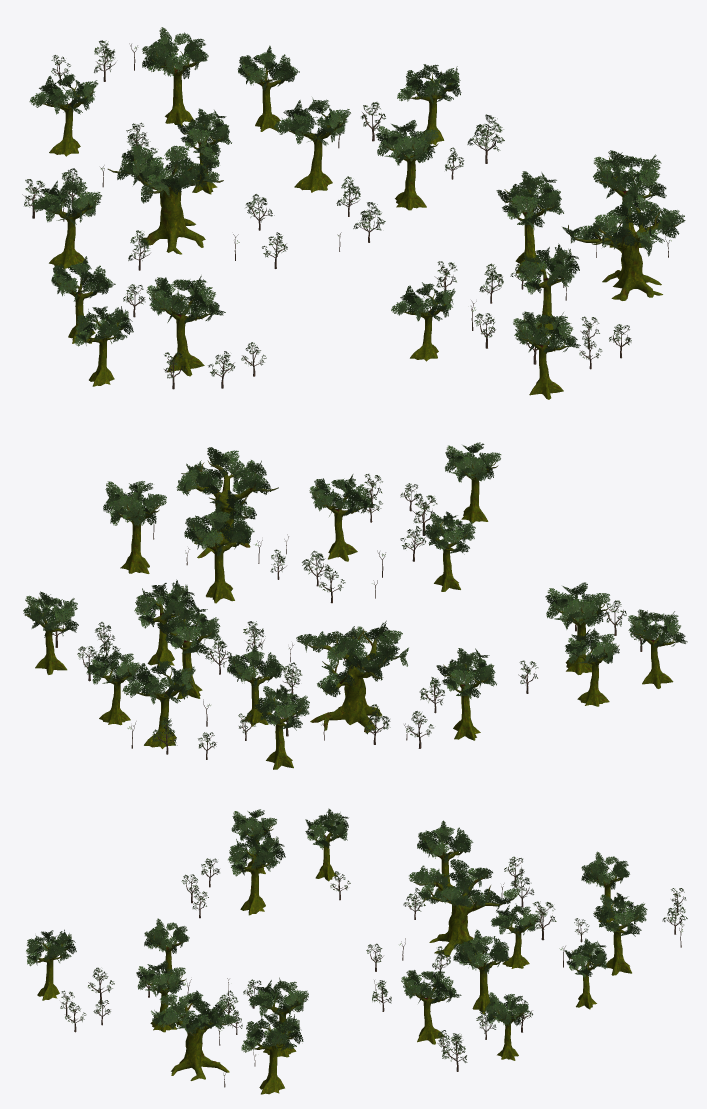
The model's file is spawn_woodland.glb.
3 renders of one model, top to bottom at view 1: azimuth 30°, elevation 25°; view 2: azimuth 150°, elevation 25°; view 3: azimuth 270°, elevation 25°, orthographic. The views are drawn at different scales.
Parts seen in each view (by area): view 1: North grove 01 (wide), East grove 01 (wide), West grove 02 (mature), Northeast grove 03 (mature), Upper slope 01 (mature), East grove 02 (mature), East grove 03 (mature), Northeast grove 01 (mature), North grove 03 (mature), South grove 03 (mature), South grove 02 (mature), Upper slope 02 (mature) (+7 smaller); view 2: North grove 01 (wide), East grove 01 (wide), East grove 02 (mature), East grove 03 (mature), Upper slope 01 (mature), Northeast grove 03 (mature), West grove 02 (mature), North grove 03 (mature), South grove 02 (mature), Upper slope 02 (mature), Northeast grove 01 (mature), Northeast grove 02 (mature) (+6 smaller); view 3: North grove 01 (wide), East grove 01 (wide), East grove 03 (mature), West grove 02 (mature), Upper slope 01 (mature), Northeast grove 03 (mature), Northeast grove 01 (mature), East grove 02 (mature), South grove 03 (mature), North grove 03 (mature), West grove 01 (mature), South grove 02 (mature) (+6 smaller).
Part boxes in pixels (x1,y1,x2,y2): North grove 01 (wide): (107, 142, 223, 254); East grove 01 (wide): (562, 190, 685, 300); West grove 02 (mature): (146, 275, 225, 376); Northeast grove 03 (mature): (274, 97, 350, 192); Upper slope 01 (mature): (142, 27, 208, 126); East grove 02 (mature): (496, 171, 563, 275); East grove 03 (mature): (593, 150, 666, 247); Northeast grove 01 (mature): (375, 120, 438, 210); North grove 03 (mature): (31, 178, 101, 268); South grove 03 (mature): (513, 311, 580, 399); South grove 02 (mature): (518, 243, 579, 334); Upper slope 02 (mature): (29, 72, 98, 156); North grove 01 (wide): (296, 620, 408, 732); East grove 01 (wide): (176, 447, 278, 558); East grove 02 (mature): (184, 503, 254, 603); East grove 03 (mature): (103, 481, 166, 573); Upper slope 01 (mature): (122, 659, 195, 748); Northeast grove 03 (mature): (157, 603, 220, 698); West grove 02 (mature): (545, 582, 610, 674); North grove 03 (mature): (436, 648, 496, 740); South grove 02 (mature): (309, 474, 376, 561); Upper slope 02 (mature): (254, 684, 309, 769); Northeast grove 01 (mature): (134, 579, 195, 666); Northeast grove 02 (mature): (23, 591, 78, 674); North grove 01 (wide): (409, 859, 519, 956); East grove 01 (wide): (151, 990, 237, 1080); East grove 03 (mature): (241, 1014, 303, 1094); West grove 02 (mature): (228, 832, 285, 915); Upper slope 01 (mature): (593, 892, 647, 975); Northeast grove 03 (mature): (453, 929, 509, 1013); Northeast grove 01 (mature): (401, 967, 461, 1044); East grove 02 (mature): (248, 977, 308, 1057); South grove 03 (mature): (26, 929, 76, 1000); North grove 03 (mature): (417, 820, 473, 895); West grove 01 (mature): (305, 808, 348, 881); South grove 02 (mature): (136, 960, 186, 1032).
Size of the model in its own units: 80.42 by 16.84 by 93.08.
6 materials, 6 textured.
